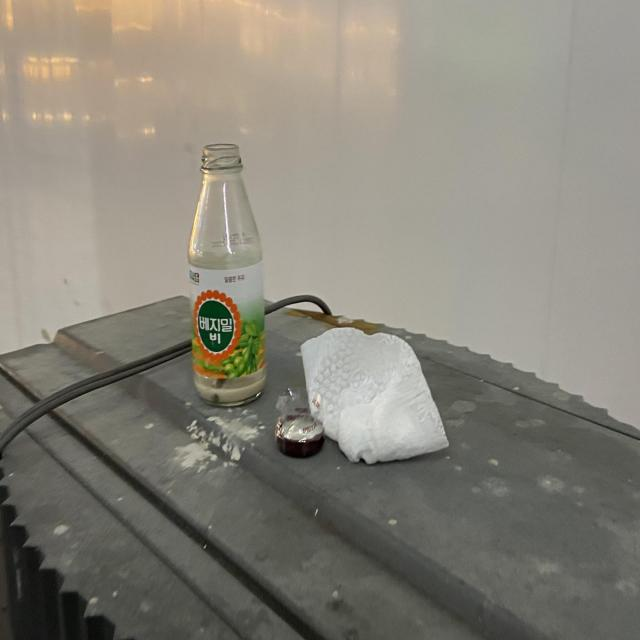glass: (187, 144, 266, 406)
